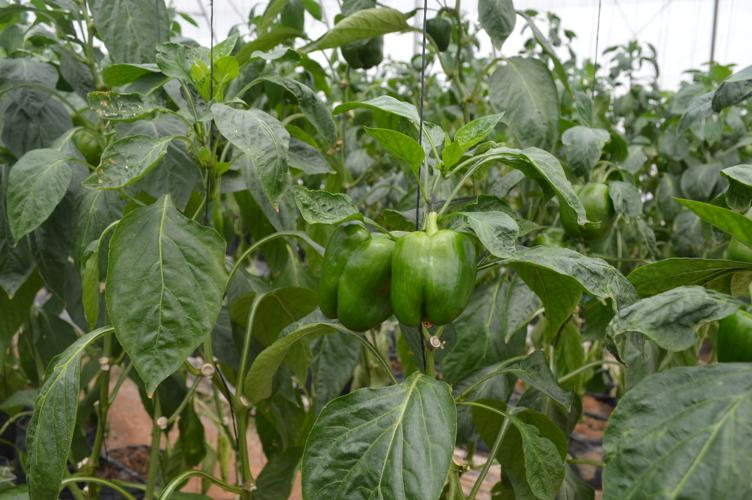BellPepper: (391, 232, 478, 326), (317, 220, 393, 327), (558, 182, 614, 239)
